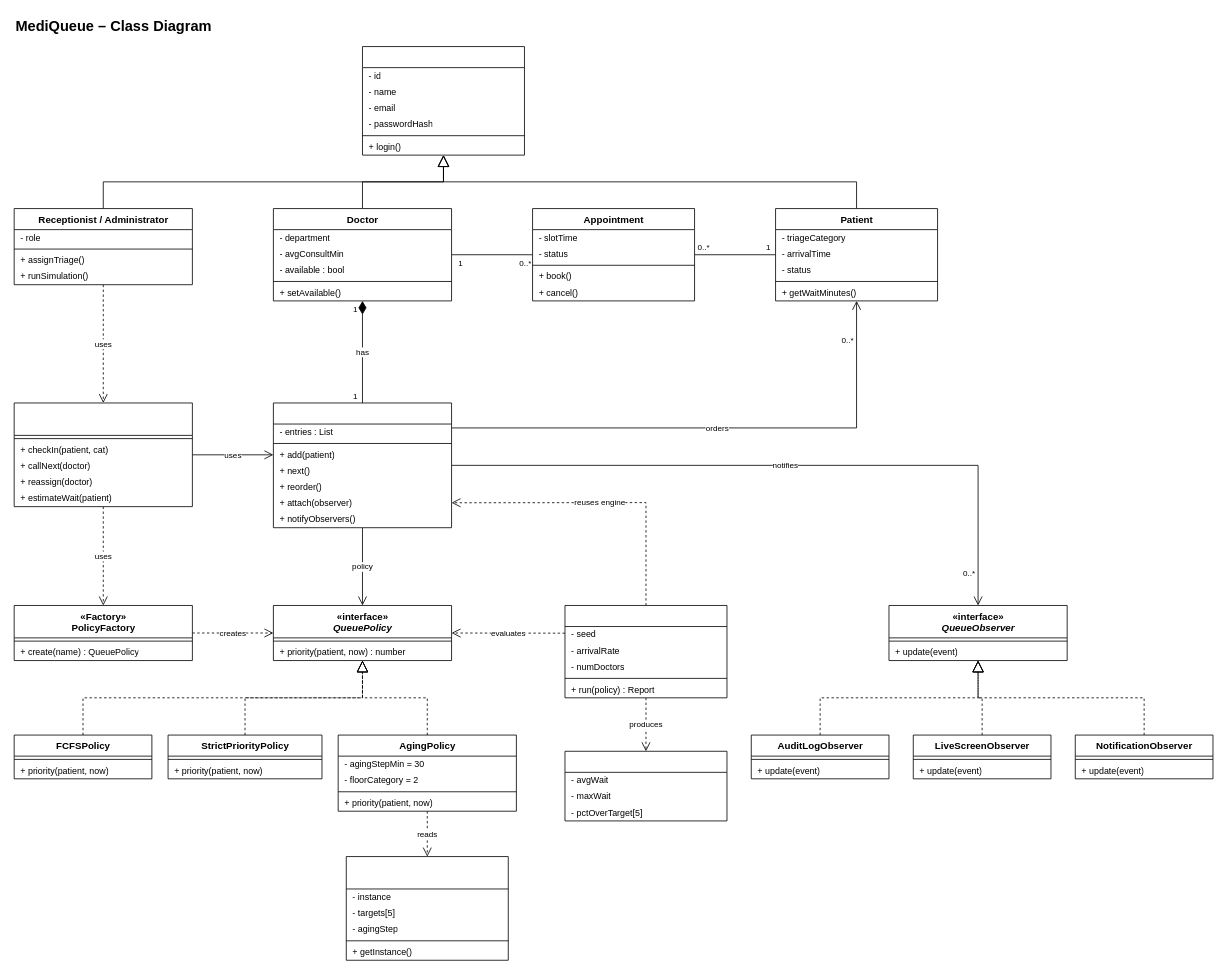
This 1227x974 diagram has some shape labels left out. Each missing label, with the box of its shape:
DoctorQueue: (273, 402, 452, 528)
SimulationReport: (564, 750, 727, 821)
Simulator: (564, 605, 727, 698)
User: (362, 46, 524, 155)
«Facade» QueueService: (13, 402, 192, 507)
«Singleton» Config: (345, 856, 508, 960)
